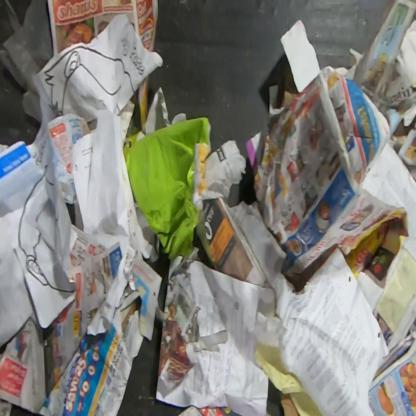cardboard: (126, 115, 211, 262), (123, 119, 145, 162), (280, 391, 300, 416)
soft_plastic: (0, 0, 54, 126)
